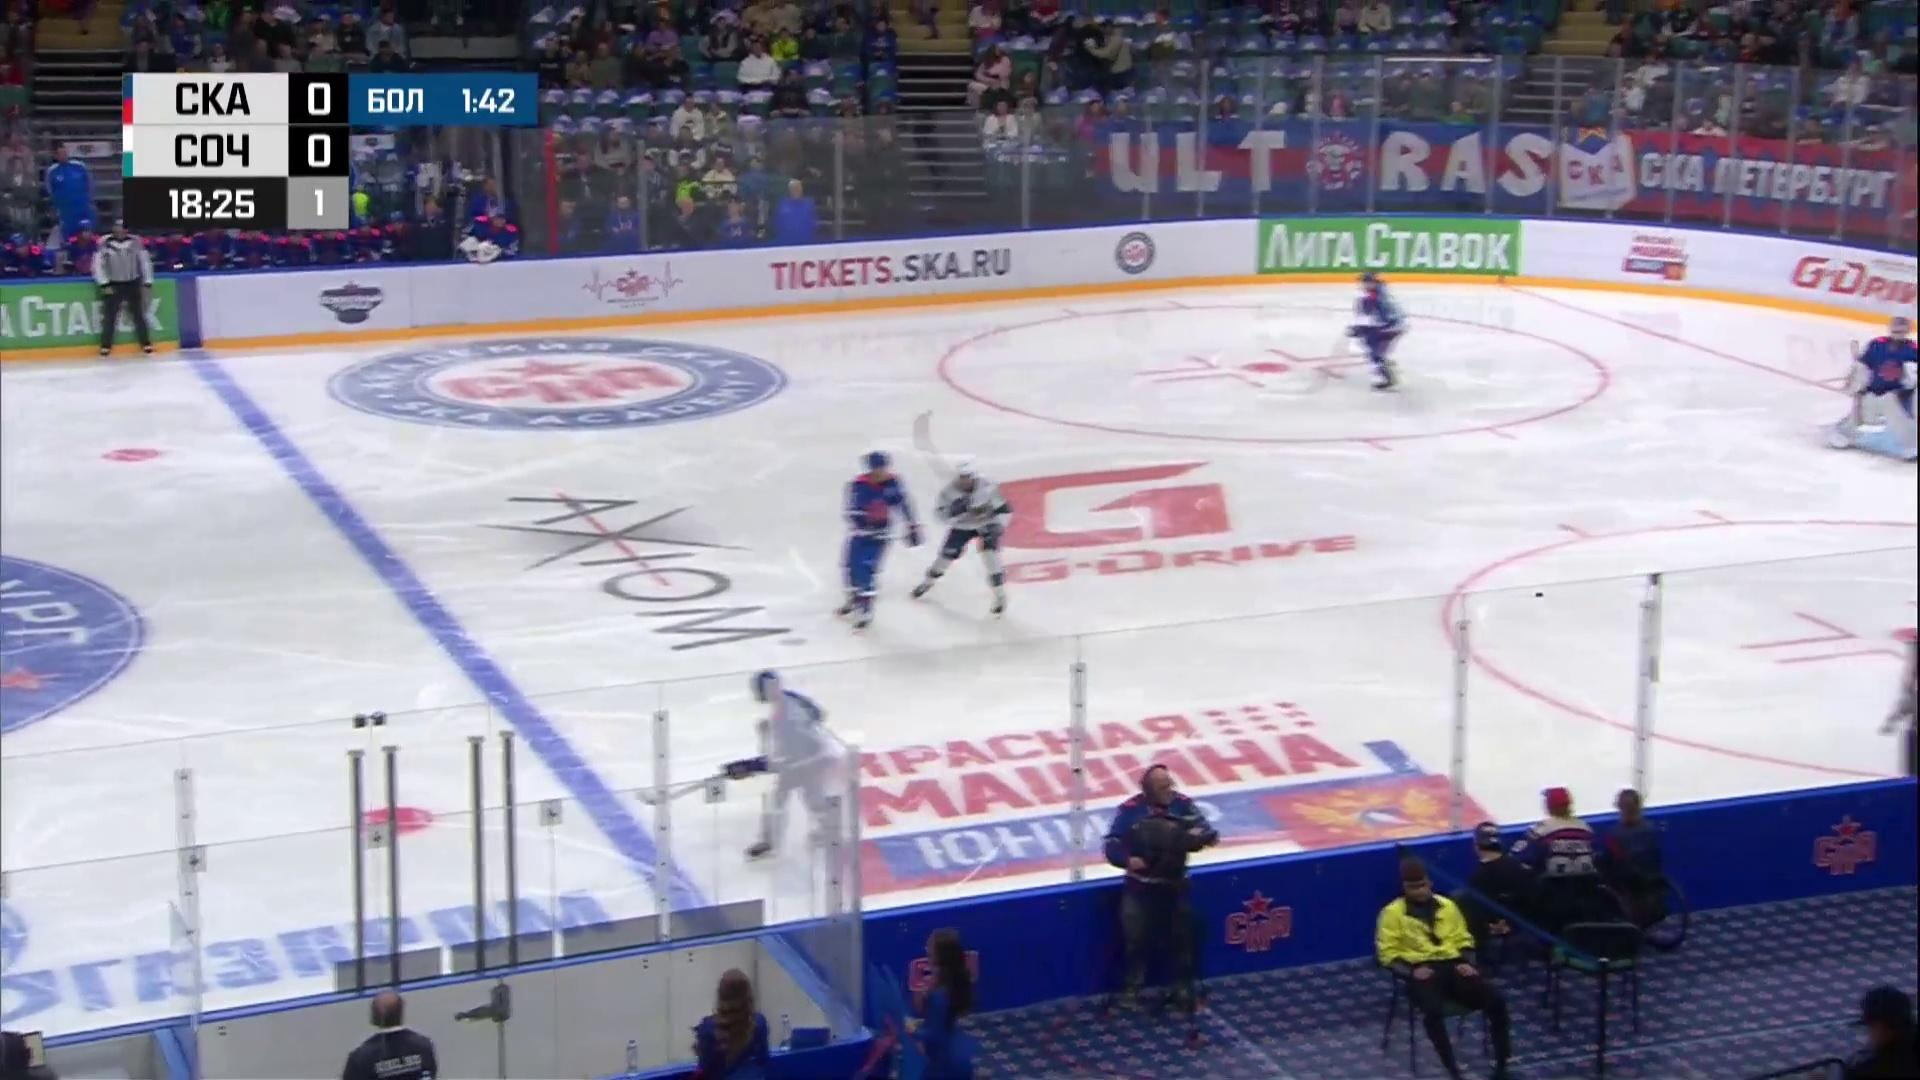ball: (1534, 592, 1544, 597)
